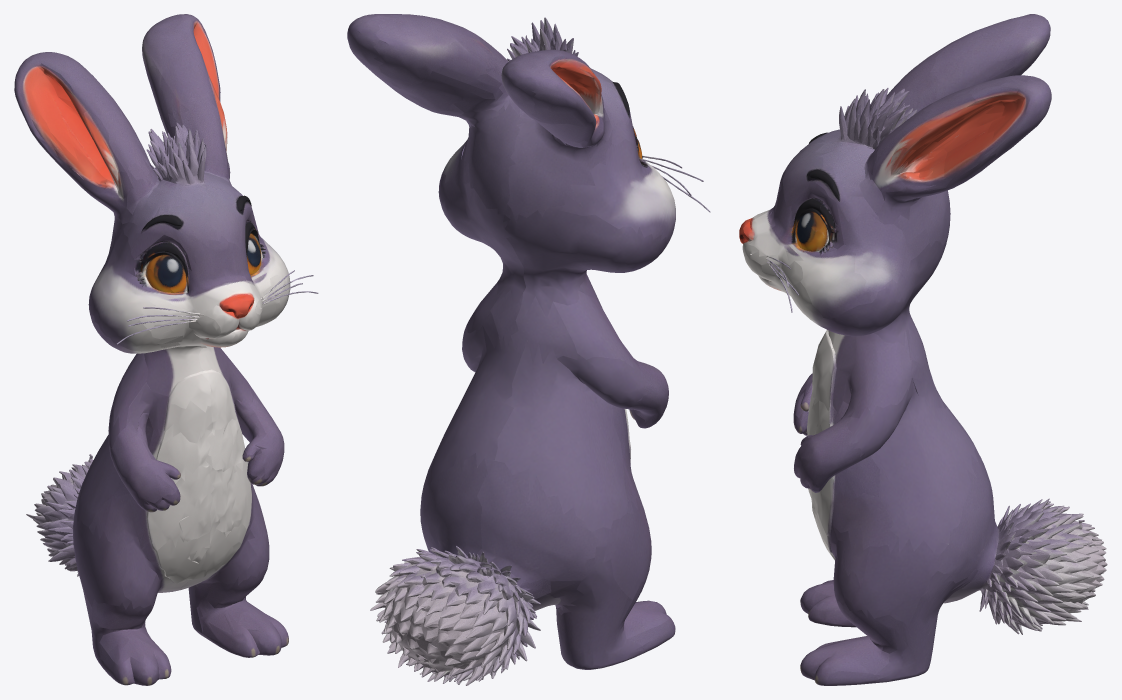
Rendered from meshy-1795542512063.glb.
3 views of the same model, side by side, from view 1: azimuth 30°, elevation 25°; view 2: azimuth 150°, elevation 25°; view 3: azimuth 270°, elevation 25° (orthographic). The views are drawn at different scales.
Size of the model in its own units: 0.7169 by 1.9 by 1.06.
Materials: 1 (1 with a texture image).
